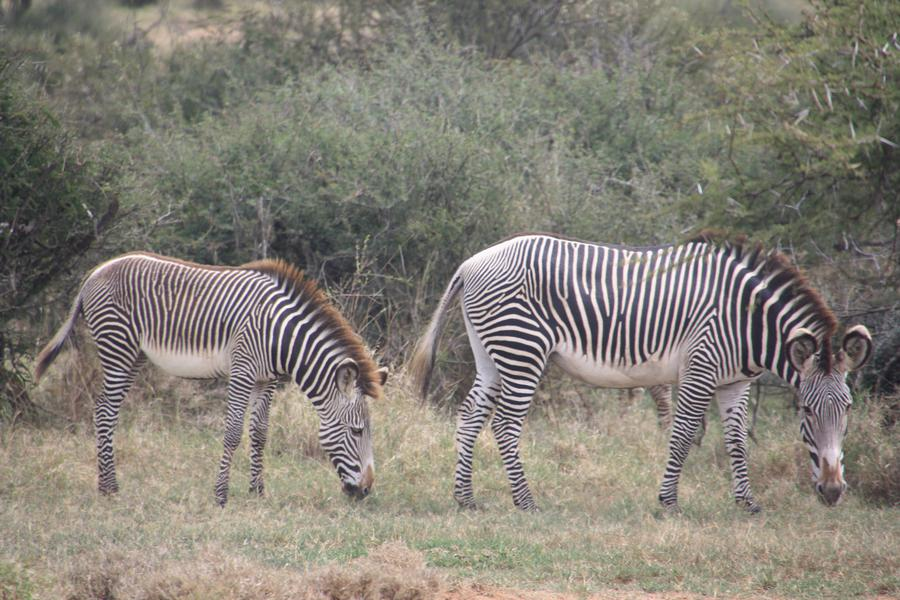zebra_grevys: (76, 239, 265, 387)
